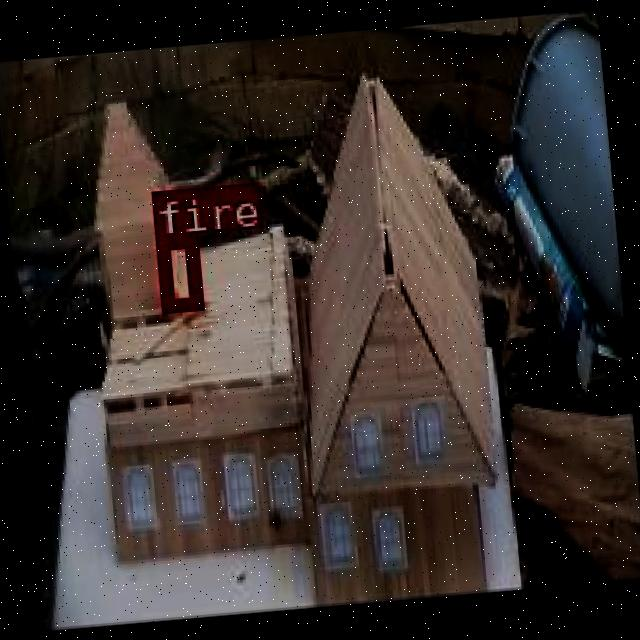fire: (154, 231, 200, 308)
